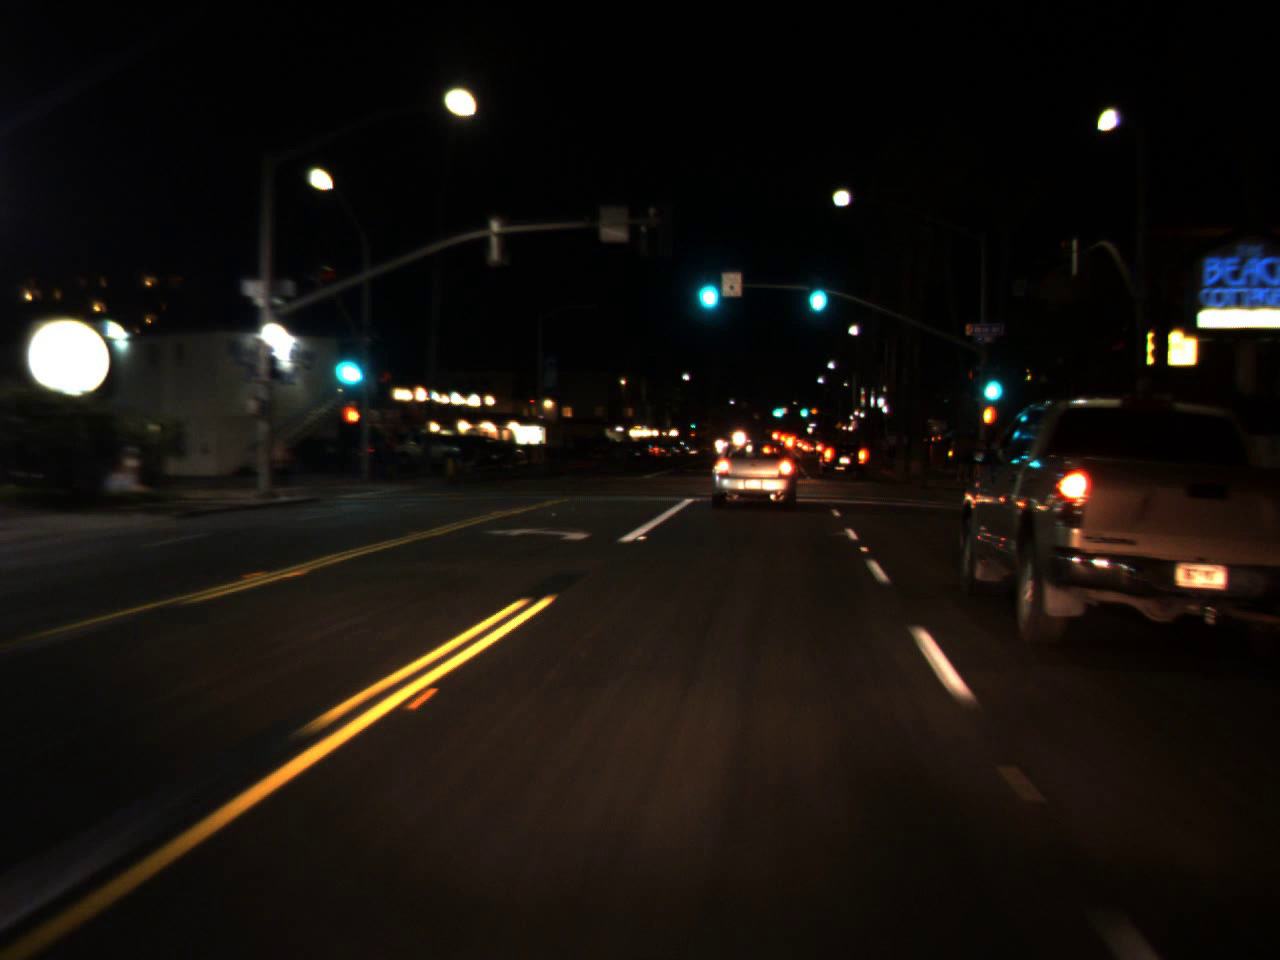go: (323, 329, 369, 395), (691, 253, 723, 319), (975, 355, 1007, 409), (802, 262, 830, 319), (769, 397, 787, 421), (796, 401, 808, 419)
